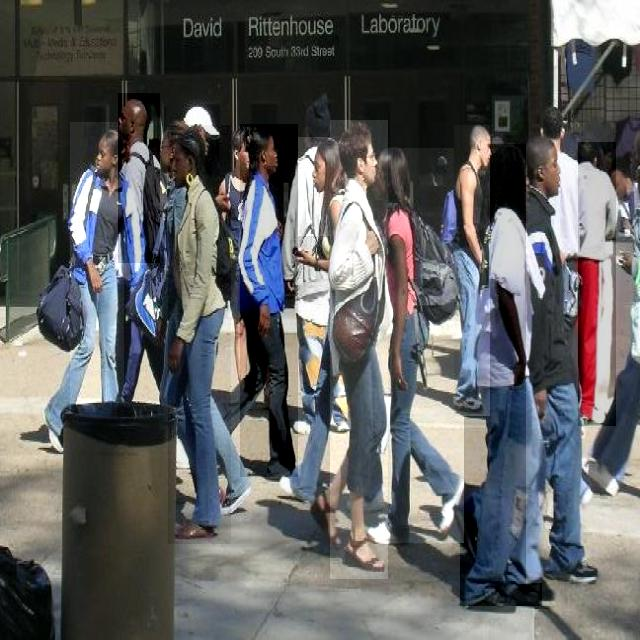with scooter: (460, 144, 542, 606), (374, 148, 464, 543), (526, 140, 600, 584), (468, 150, 546, 505), (330, 120, 388, 579), (168, 125, 231, 544), (240, 124, 298, 477), (70, 122, 124, 403), (578, 142, 616, 426), (454, 125, 490, 416), (118, 93, 160, 263), (298, 137, 340, 236)
